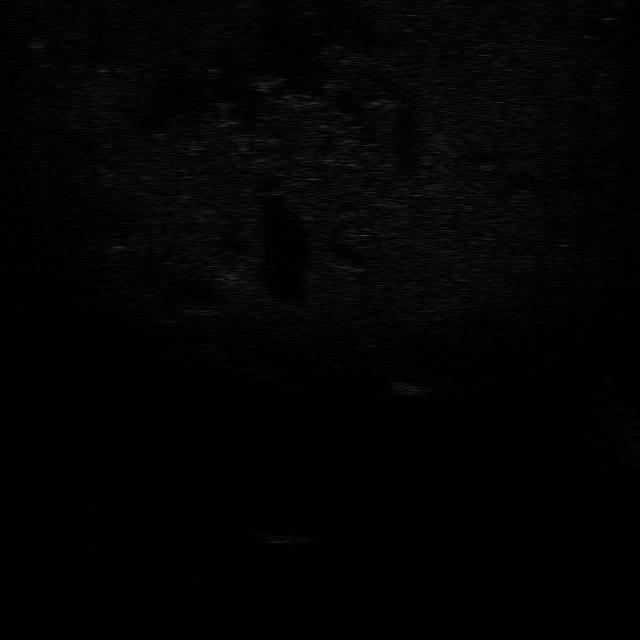cube: (256, 532, 308, 546)
square cage: (388, 378, 432, 398)
